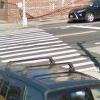Crosswalk: (0, 28, 82, 69)
